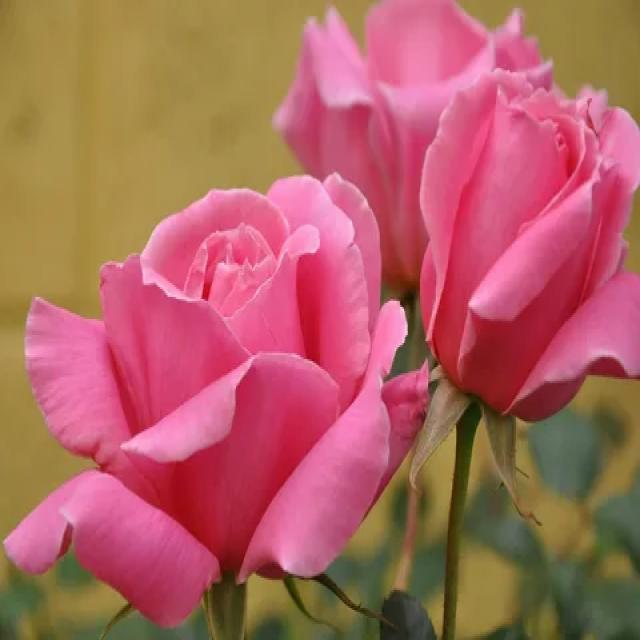rose: (0, 164, 436, 640)
